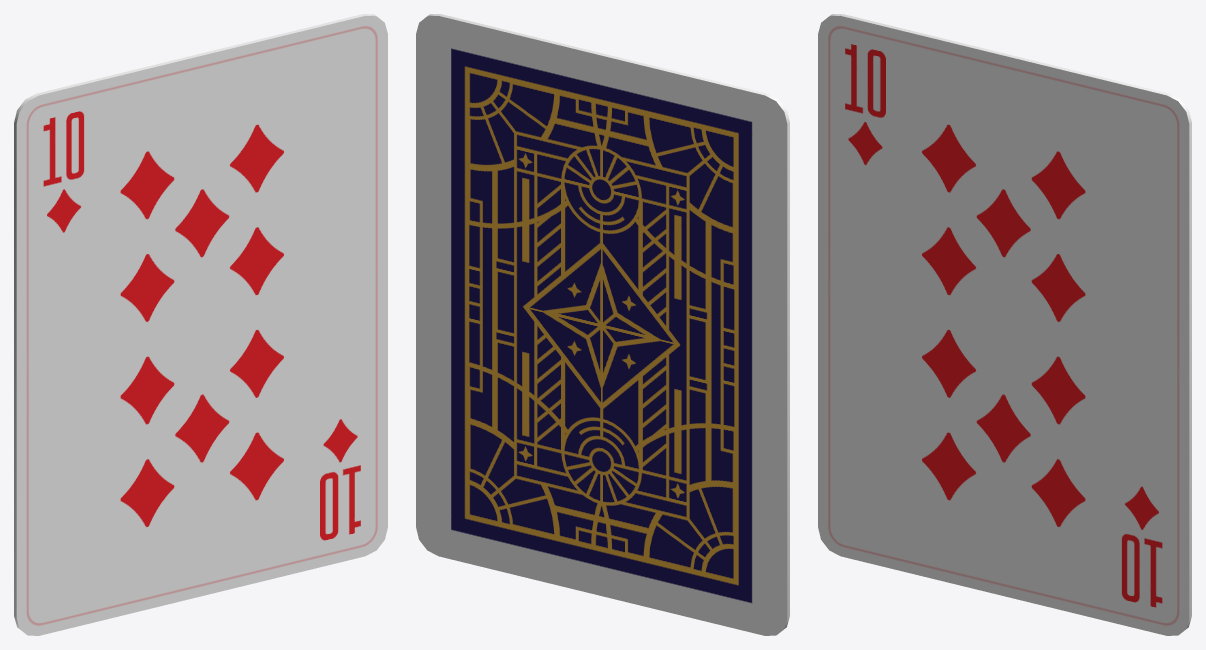
The model's file is card_diamonds_ten.obj.
3 views of the same model, side by side, from view 1: azimuth 30°, elevation 25°; view 2: azimuth 150°, elevation 25°; view 3: azimuth 330°, elevation 25° (orthographic).
Parts seen in each view (by area): view 1: card_diamonds_ten; view 2: card_diamonds_ten; view 3: card_diamonds_ten.
Boxes of the visible parts, bbox=[...] form: card_diamonds_ten: bbox=[14, 14, 387, 635]; card_diamonds_ten: bbox=[416, 14, 789, 635]; card_diamonds_ten: bbox=[818, 14, 1191, 635].
Size of the model in its own units: 4.31 by 6 by 0.05.
Materials: 2 (2 with a texture image).
